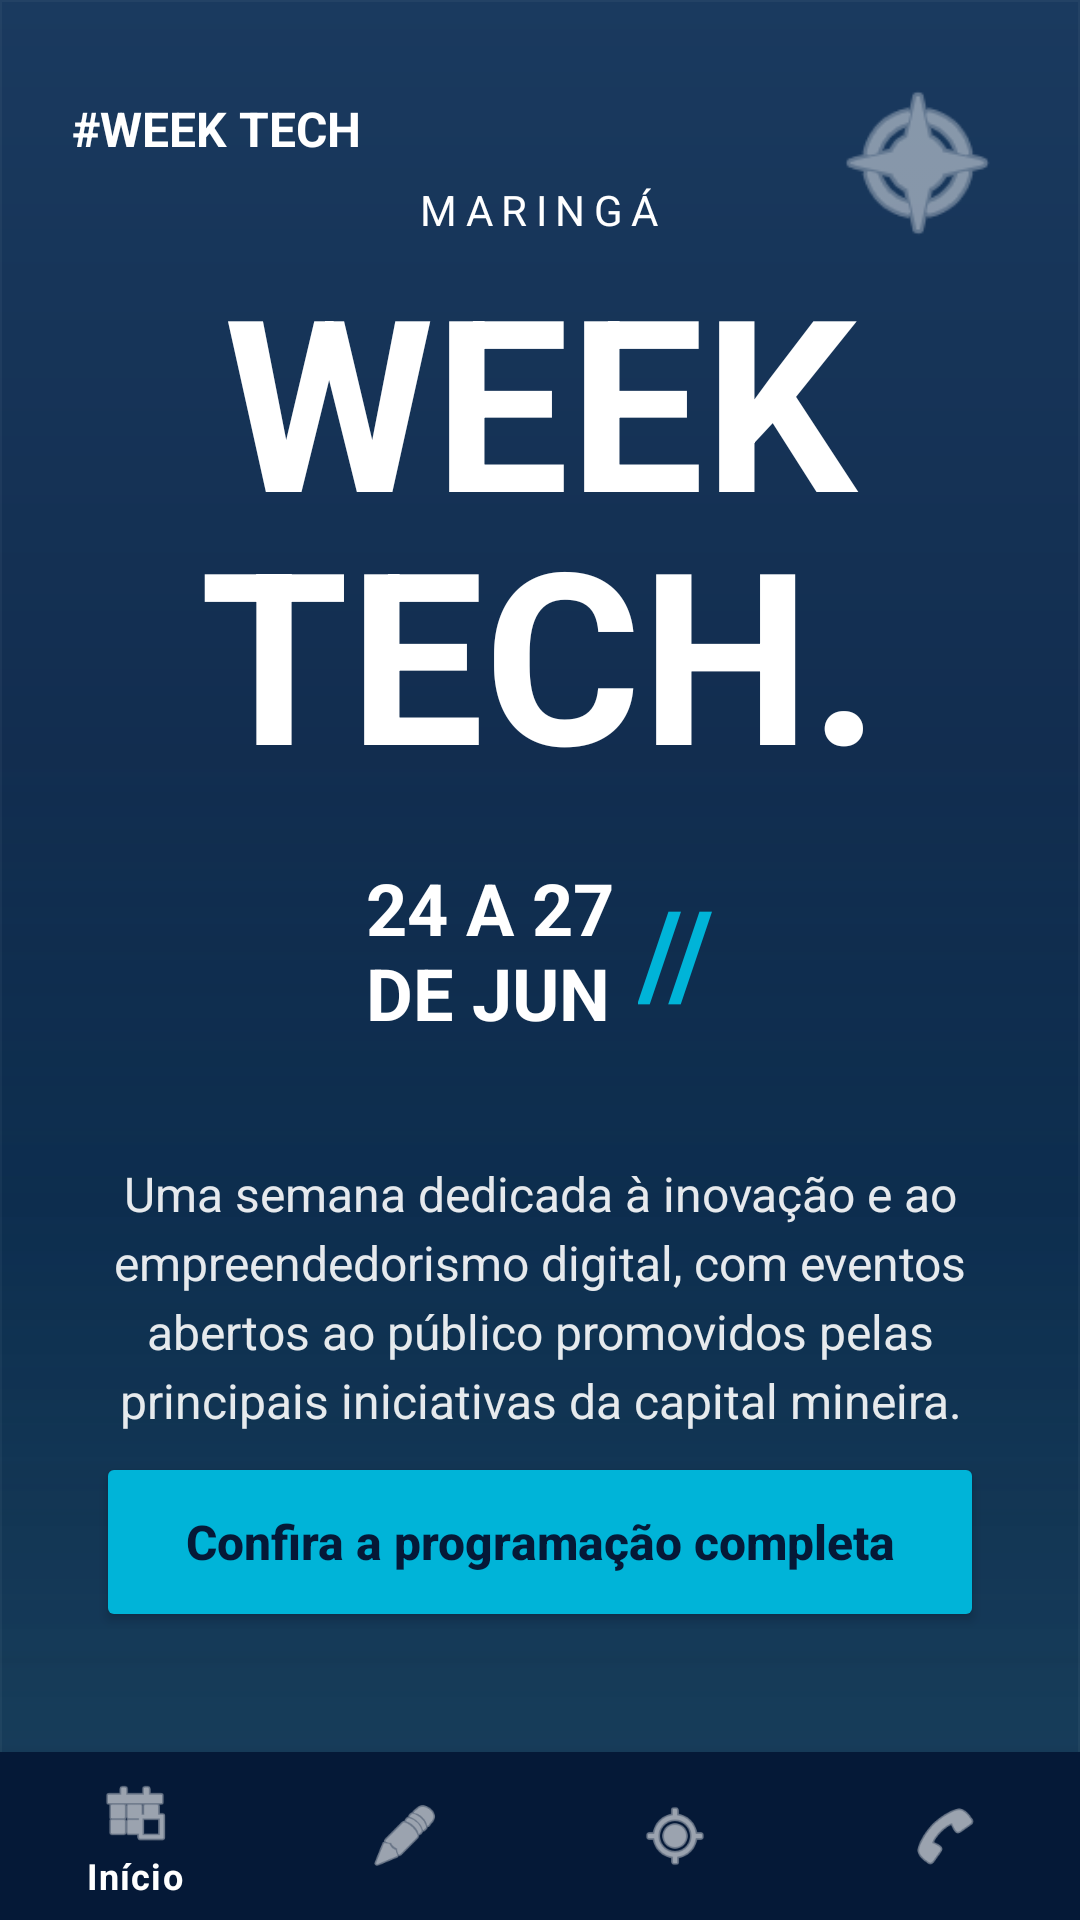

Screen size 1080 × 1920. Icon name, then its center in pixels as (x=x, y=y):
compass: (x=917, y=163)
